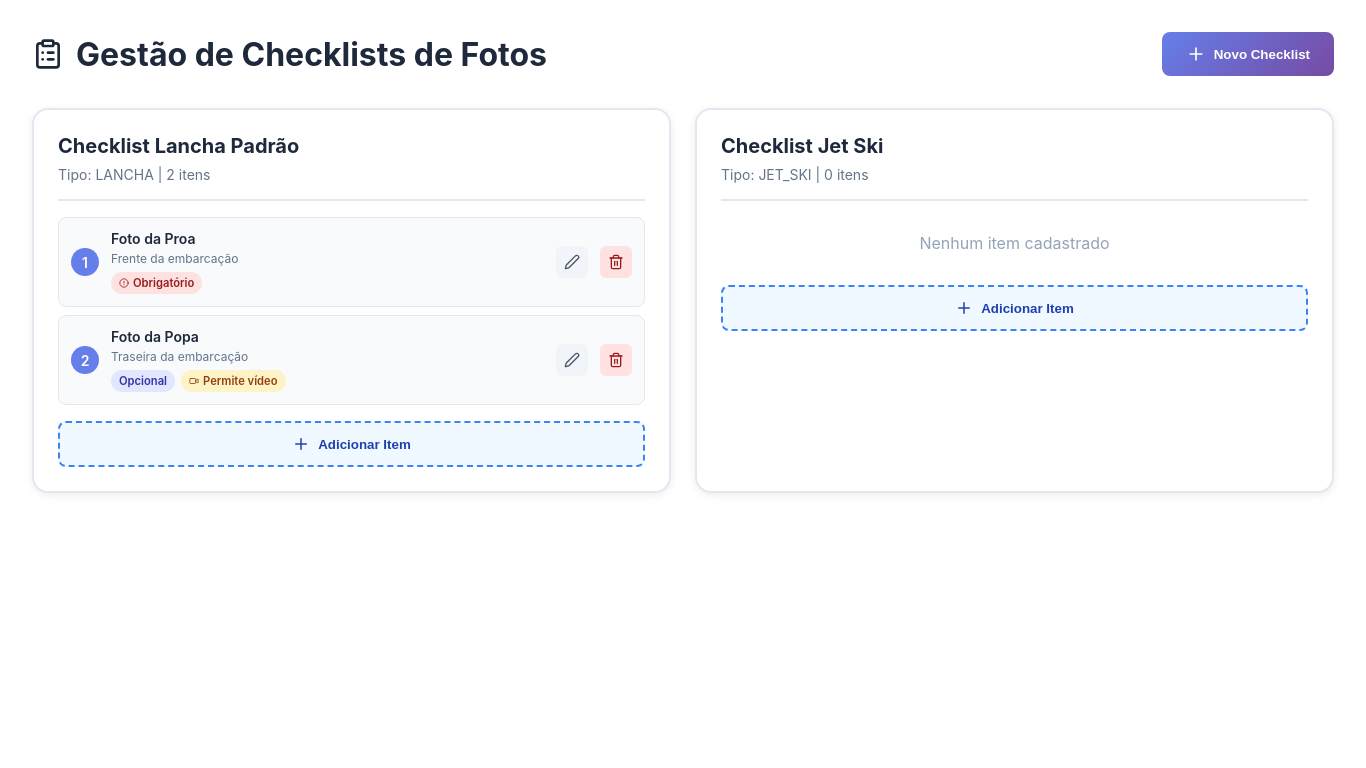
it: ChecklistTemplates › Adicionar item › deve abrir modal ao clicar em Adicionar Item
This screenshot has width=1366, height=768.
Click the button "Adicionar Item" below "Opcional": (352, 444) [58,421,645,467]
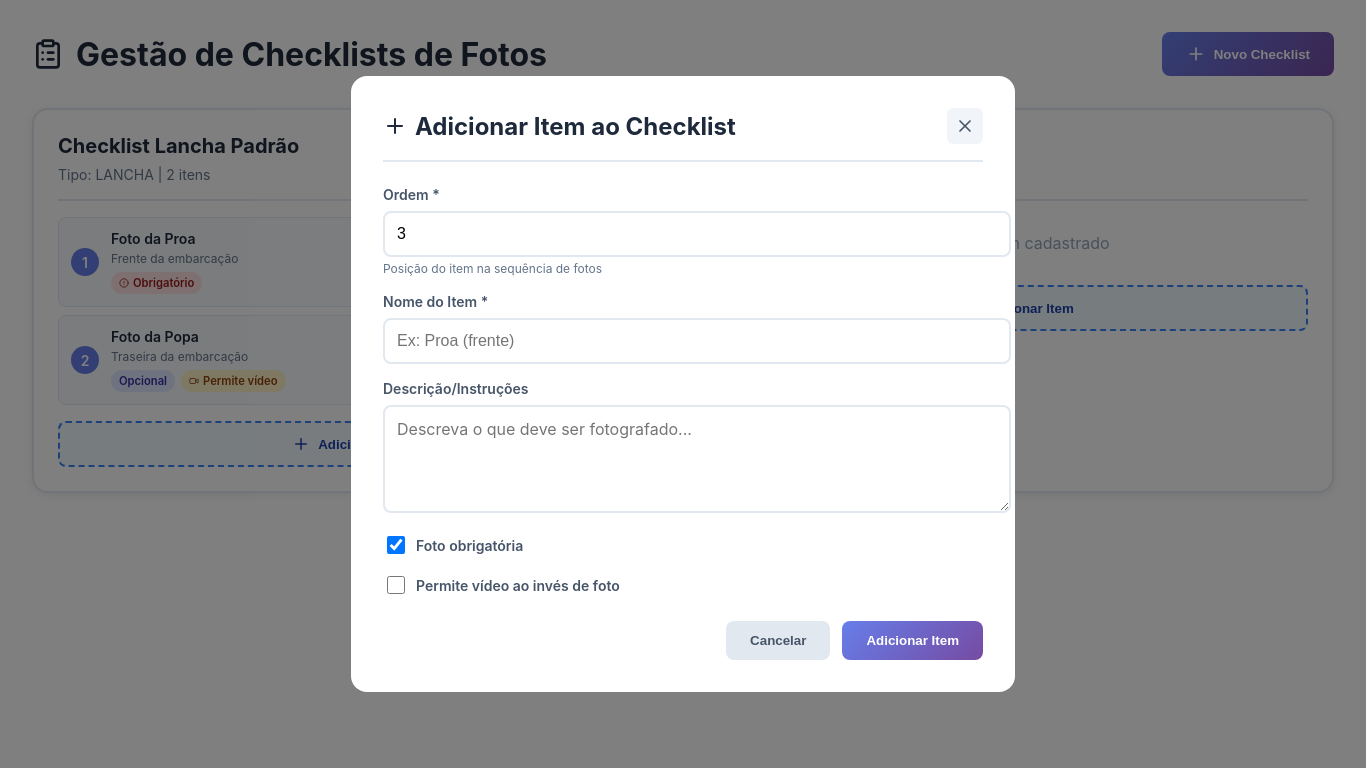
expect the heading "Adicionar Item ao Checklist" is shown: met, box [383,112,736,140]
